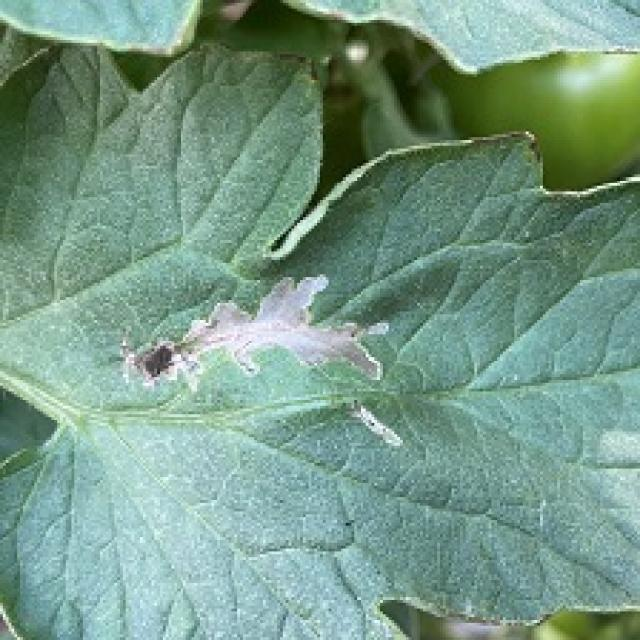Tuta absoluta: (117, 270, 391, 399), (352, 407, 404, 449)
